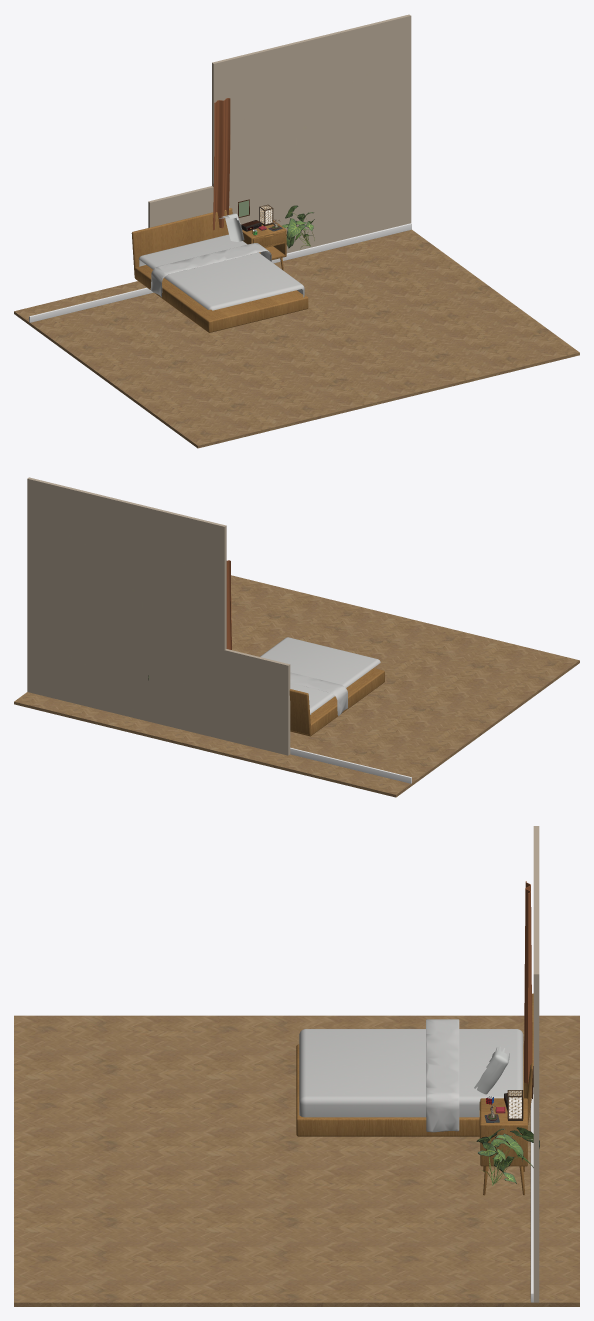
The model's file is bedroom.glb.
3 renders of one model, top to bottom at view 1: azimuth 30°, elevation 25°; view 2: azimuth 150°, elevation 25°; view 3: azimuth 270°, elevation 25°, orthographic. The views are drawn at different scales.
Parts seen in each view (by area): view 1: Floor, WallRight, WallFar, Mattress, BedFrame, Headboard, Curtain1, Skirting, WallBelow, SheetFold, Nightstand, potted_plant_02; view 2: Floor, WallRight, WallFar, WallBelow, Mattress, BedFrame, Skirting, Headboard, SheetFold, Curtain1; view 3: Floor, Mattress, SheetFold, BedFrame, WallFar, Nightstand, Curtain1, potted_plant_02, Pillow1, Skirting, WallRight.
Boxes of the visible parts, x1=… form: Floor: x1=14, y1=229, x2=579, y2=448; WallRight: x1=212, y1=31, x2=340, y2=253; WallFar: x1=339, y1=14, x2=411, y2=240; Mattress: x1=138, y1=234, x2=304, y2=310; BedFrame: x1=134, y1=265, x2=308, y2=332; Headboard: x1=131, y1=208, x2=232, y2=276; Curtain1: x1=213, y1=98, x2=230, y2=230; Skirting: x1=29, y1=223, x2=411, y2=322; WallBelow: x1=148, y1=186, x2=213, y2=227; SheetFold: x1=150, y1=243, x2=271, y2=297; Nightstand: x1=242, y1=220, x2=286, y2=270; potted_plant_02: x1=282, y1=205, x2=314, y2=250; Floor: x1=14, y1=575, x2=579, y2=797; WallRight: x1=97, y1=494, x2=226, y2=739; WallFar: x1=27, y1=477, x2=98, y2=708; WallBelow: x1=224, y1=649, x2=290, y2=755; Mattress: x1=260, y1=637, x2=380, y2=714; BedFrame: x1=290, y1=668, x2=384, y2=736; Skirting: x1=290, y1=747, x2=411, y2=783; Headboard: x1=289, y1=689, x2=311, y2=734; SheetFold: x1=290, y1=672, x2=347, y2=715; Curtain1: x1=226, y1=560, x2=231, y2=649; Floor: x1=14, y1=1015, x2=579, y2=1306; Mattress: x1=299, y1=1029, x2=523, y2=1117; SheetFold: x1=426, y1=1019, x2=459, y2=1132; BedFrame: x1=296, y1=1044, x2=523, y2=1136; WallFar: x1=533, y1=921, x2=539, y2=1302; Nightstand: x1=479, y1=1098, x2=527, y2=1195; Curtain1: x1=524, y1=881, x2=532, y2=1086; potted_plant_02: x1=476, y1=1127, x2=539, y2=1185; Pillow1: x1=474, y1=1046, x2=509, y2=1094; Skirting: x1=530, y1=1087, x2=533, y2=1302; WallRight: x1=533, y1=826, x2=539, y2=921.
Bounding box in the file's own units: 60 × 32.4 × 50.
47 materials, 10 textured.
